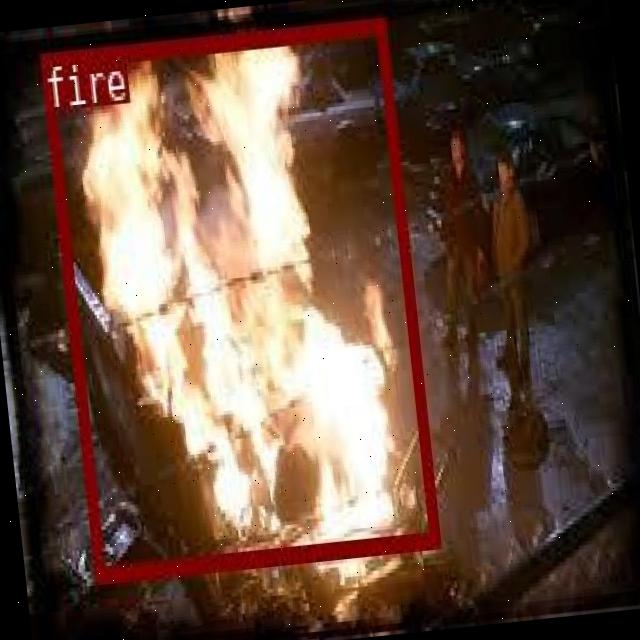fire: (40, 16, 438, 581)
